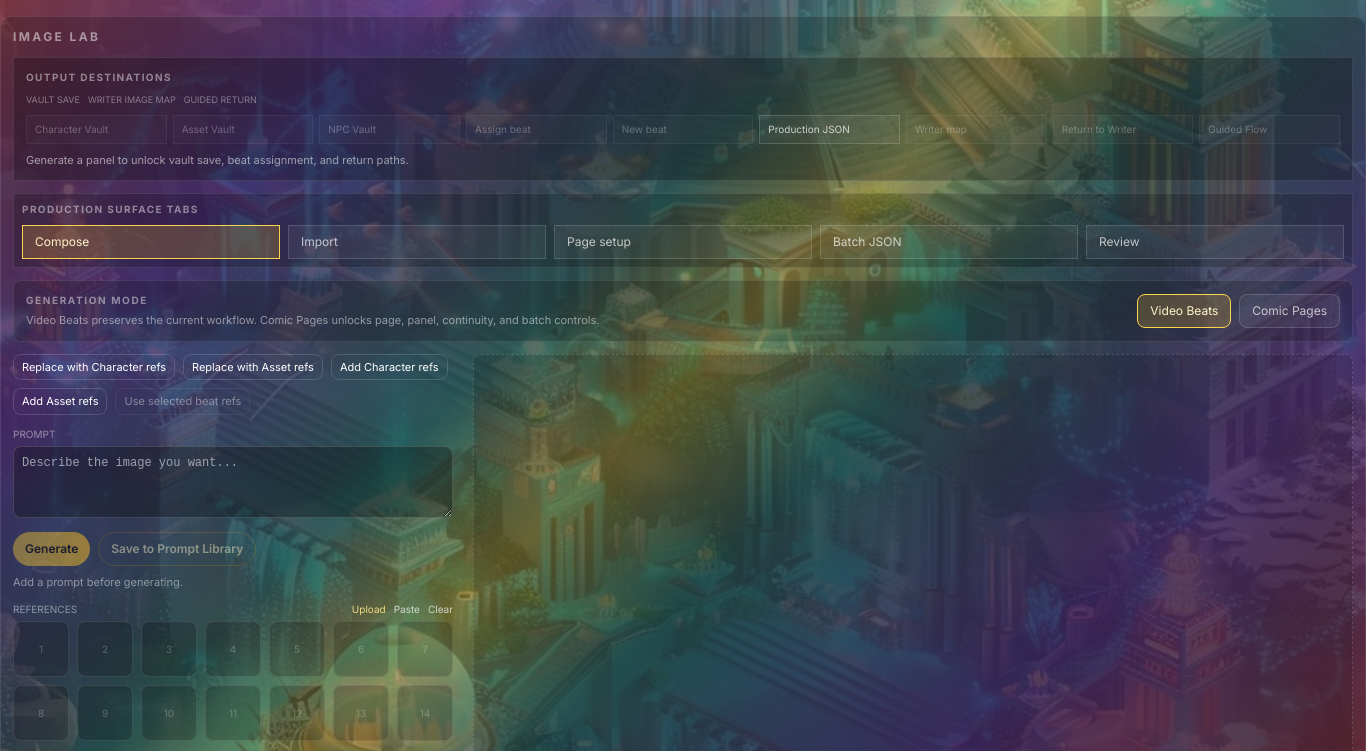
Test case: GenericImageLabPanel production studio shell › scopes repeated Imageshop commands and explains disabled actions
Expected: the button with aria-label "Generate current Imageshop prompt" is shown, [13,532,90,566]
Expected: the text "Add a prompt before generating." is shown, [13,574,183,588]
Type "Blue hero." into the text box with placeholder "Describe the image you want...".
click(233, 482); type("Blue hero.")  # box [13,446,453,518]
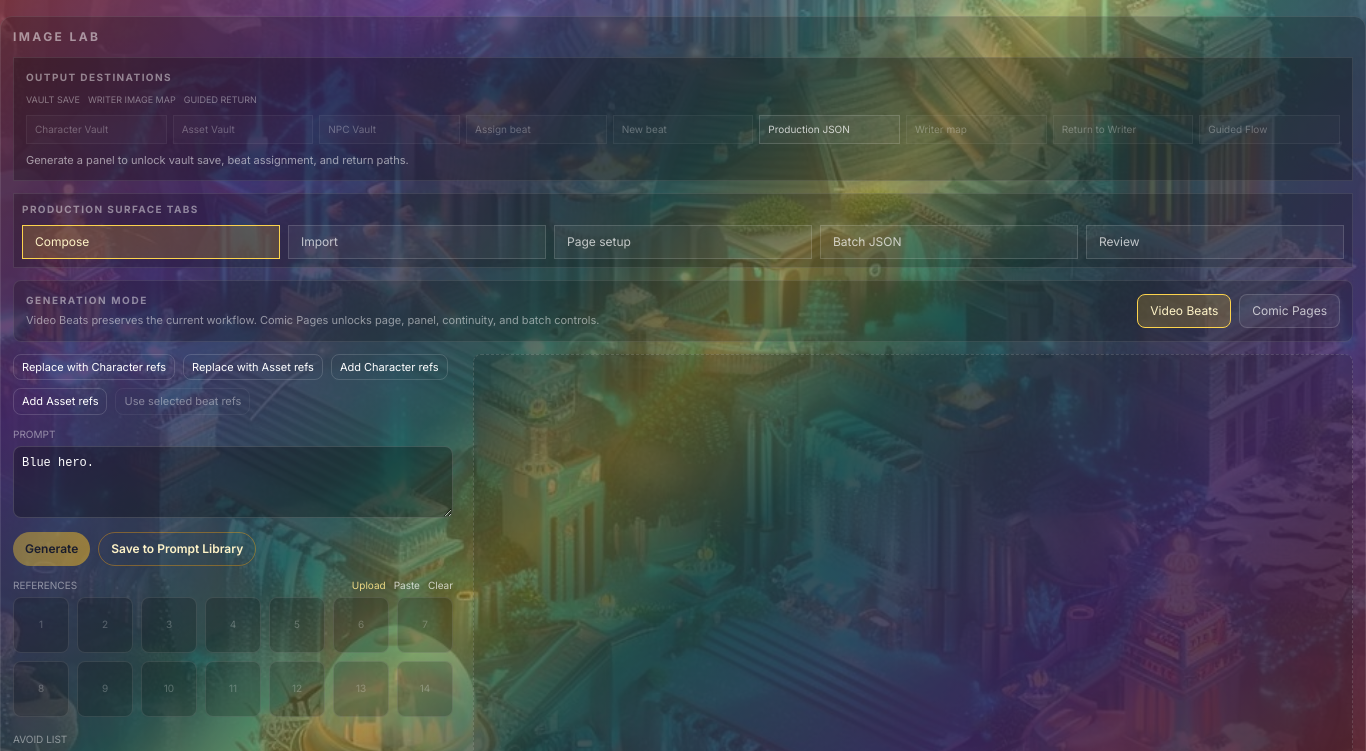
Expected: the button with aria-label "Generate current Imageshop prompt" is disabled, [13,532,90,566]
Click the button "Page setup".
click(683, 242)  # box [554,225,812,259]
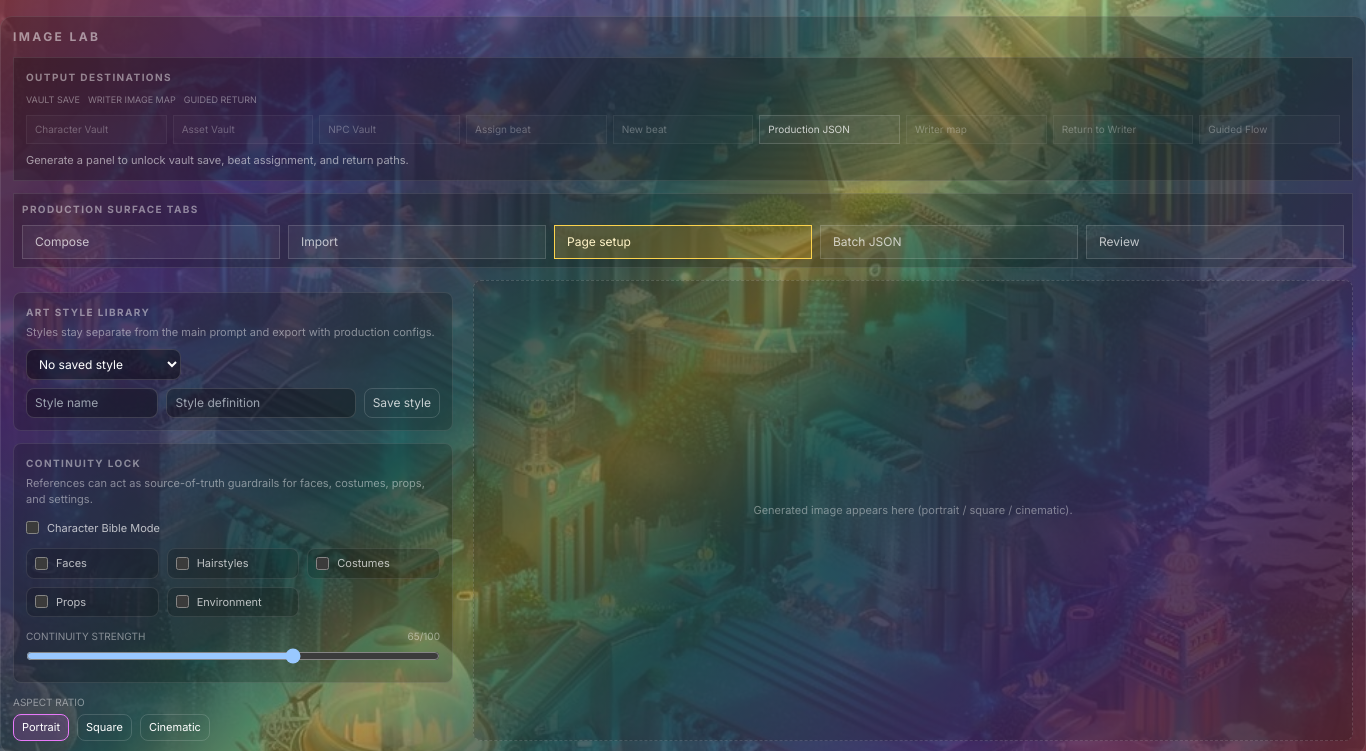
Result: the button with aria-label "Set generation aspect ratio to Portrait" is shown at [13,714,69,740]
Result: the button with aria-label "Set generation aspect ratio to Square" is shown at [77,714,132,740]
Result: the button with aria-label "Set generation aspect ratio to Cinematic" is shown at [140,714,210,740]
